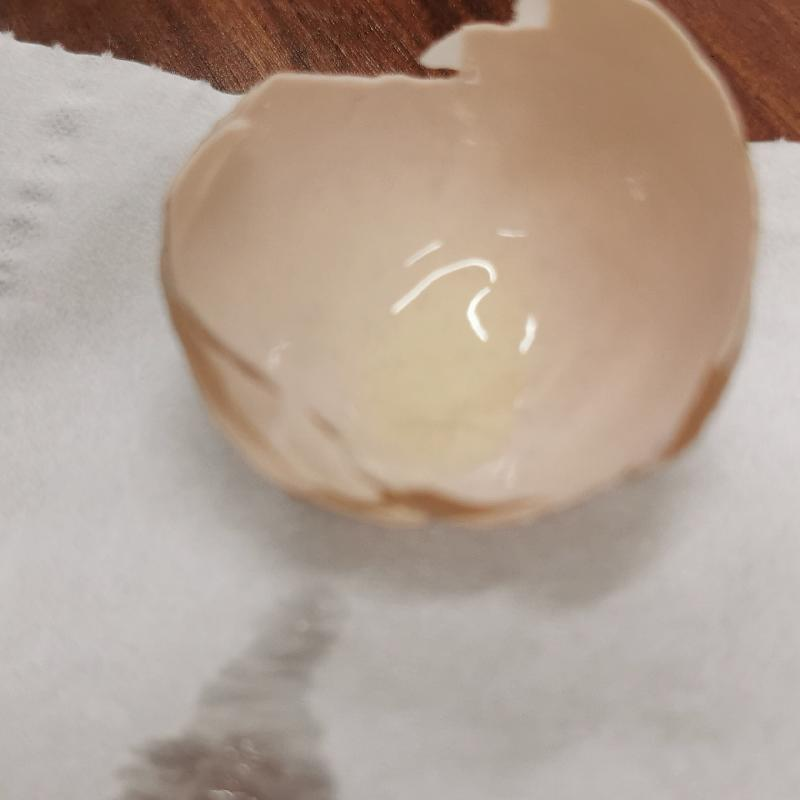eggshell: (157, 0, 757, 535)
